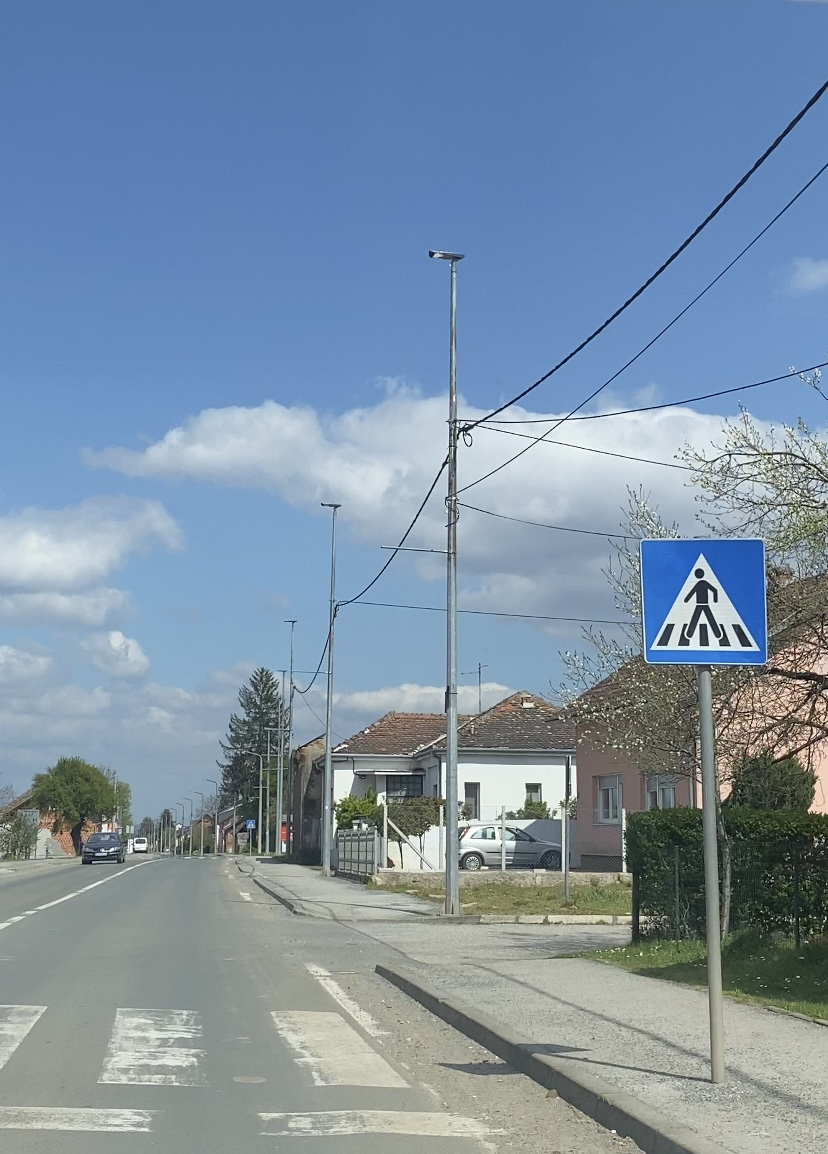Pješački prijelaz: (639, 538, 768, 665)
